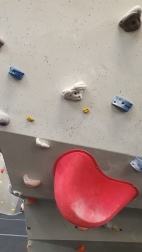Jug: (117, 4, 142, 33), (60, 81, 89, 102), (22, 173, 43, 189), (33, 136, 49, 150)
Pinch: (112, 95, 134, 112), (9, 66, 24, 81), (130, 155, 141, 172)
